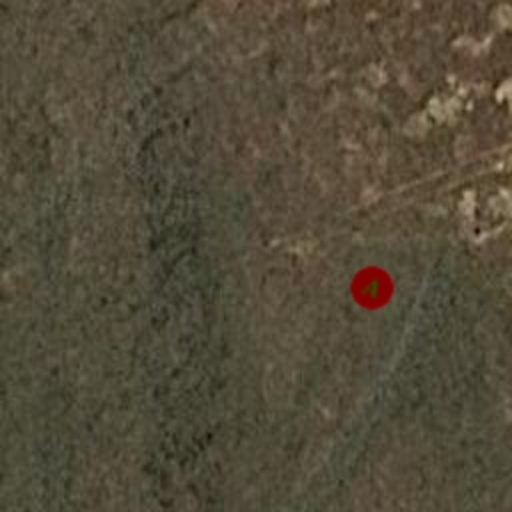circle: (344, 260, 400, 316)
